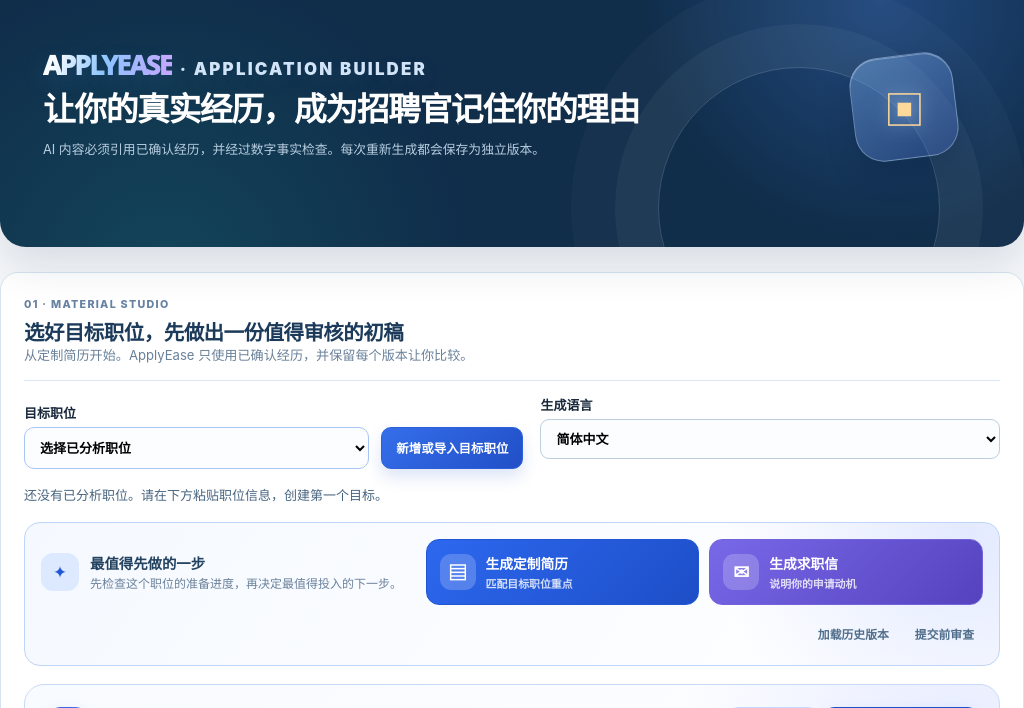
Test: ApplicationBuilderPage › updates the resume preview as the user edits, before saving
This screenshot has width=1024, height=708.
Step 1. Click the button "▤ 生成定制简历 匹配目标职位重点" → (562, 572), box [426, 539, 699, 605]
(page scrolled)
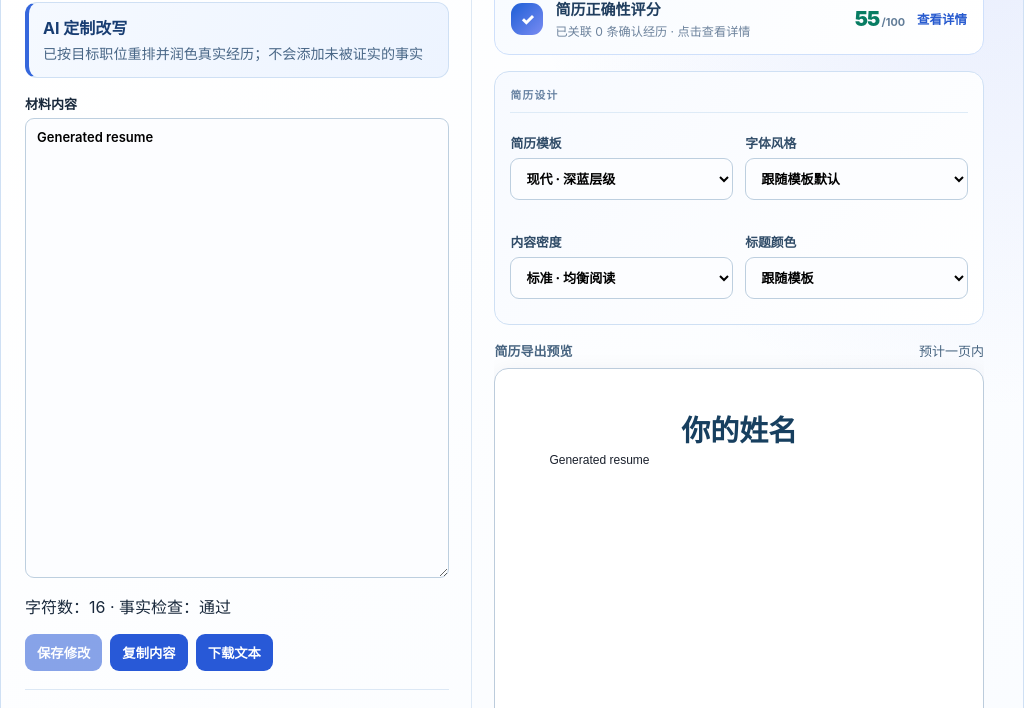
Step 2. Replace the text in the text box labelled "材料内容" with "Live preview evidence" → (237, 348), box [25, 118, 449, 578]
(page scrolled)
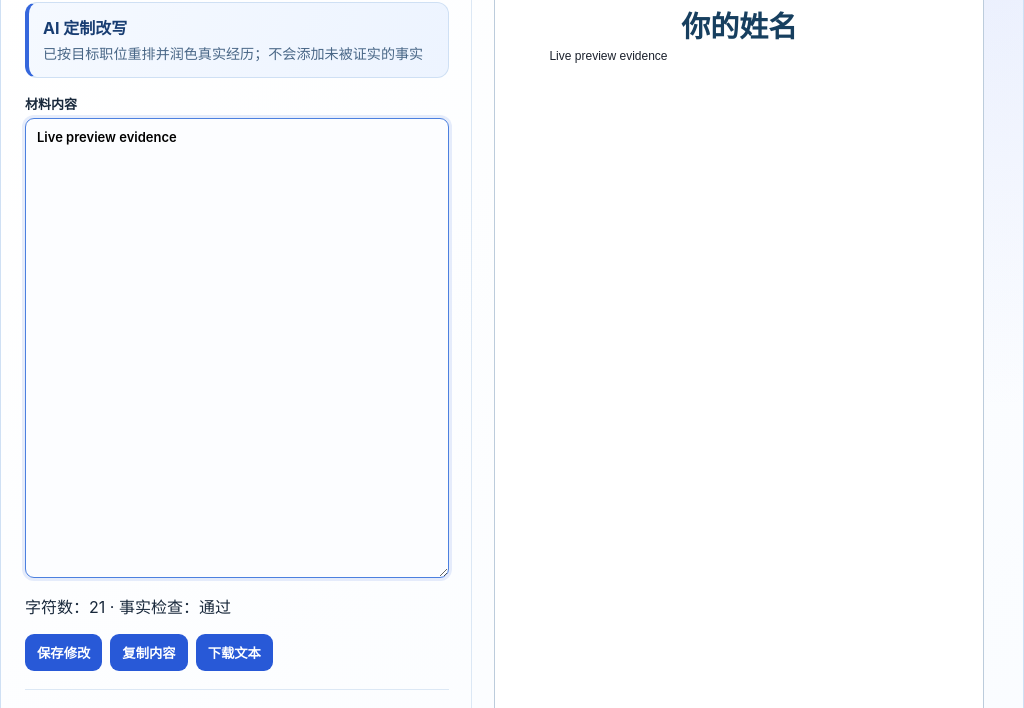
Expected: the element labelled "简历导出预览" shows "Live preview evidence", [549, 49, 668, 63]
